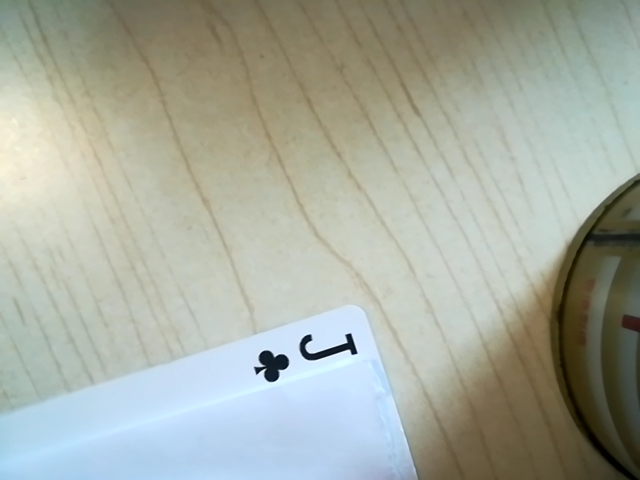mh j: (239, 326, 371, 387)
